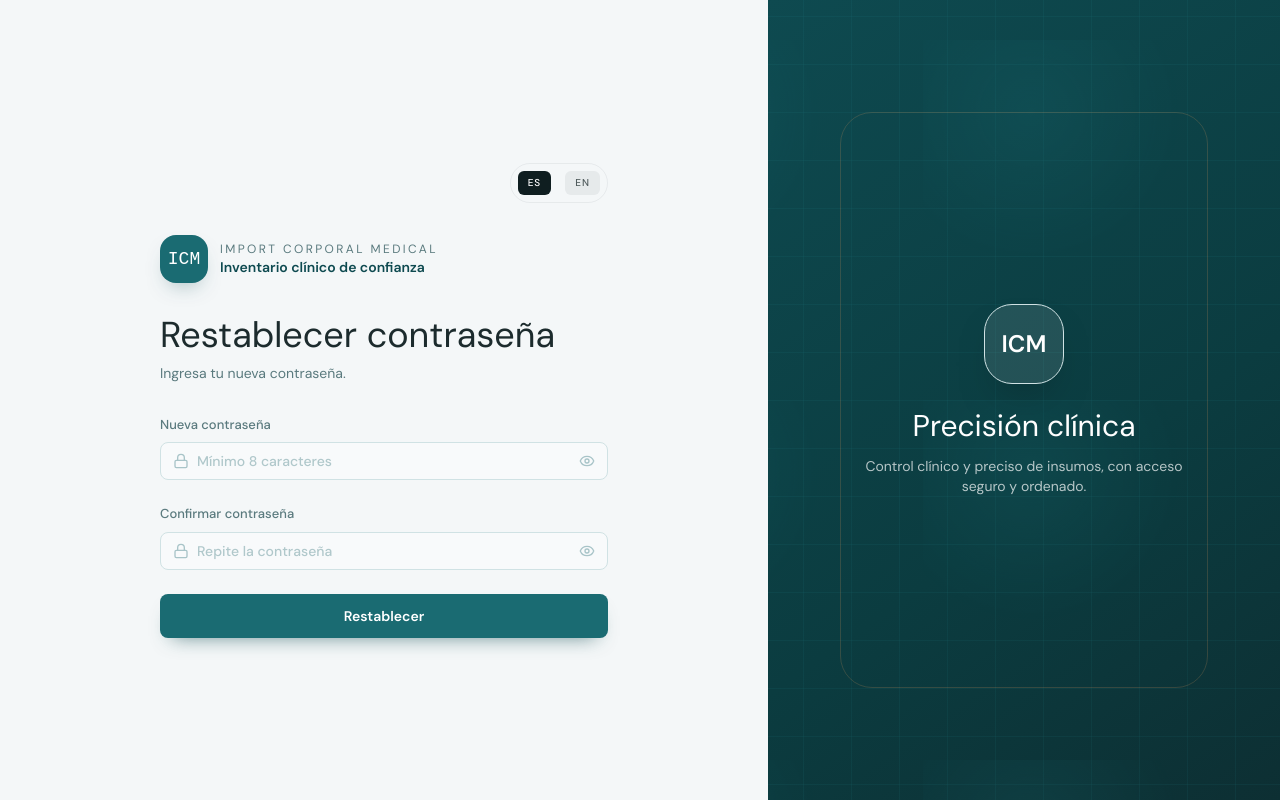
Test case: ResetPasswordPage — integración › Validaciones client-side › debería mostrar error si la contraseña no tiene minúscula
This screenshot has width=1280, height=800.
Type "ADMIN123!" into the password field labelled "Nueva contraseña" at (384, 461), box [197, 451, 571, 471]
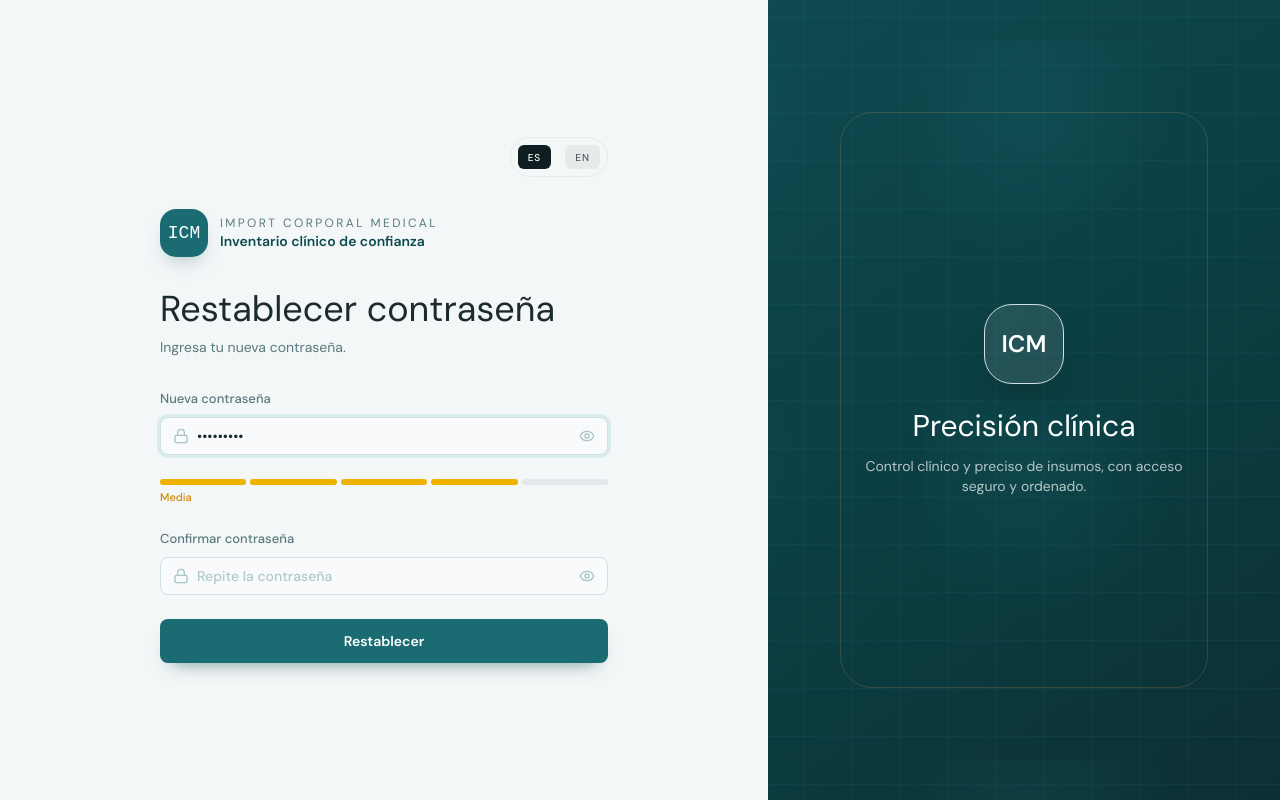
Type "ADMIN123!" into the password field labelled "Confirmar contraseña" at (384, 576), box [197, 566, 571, 586]
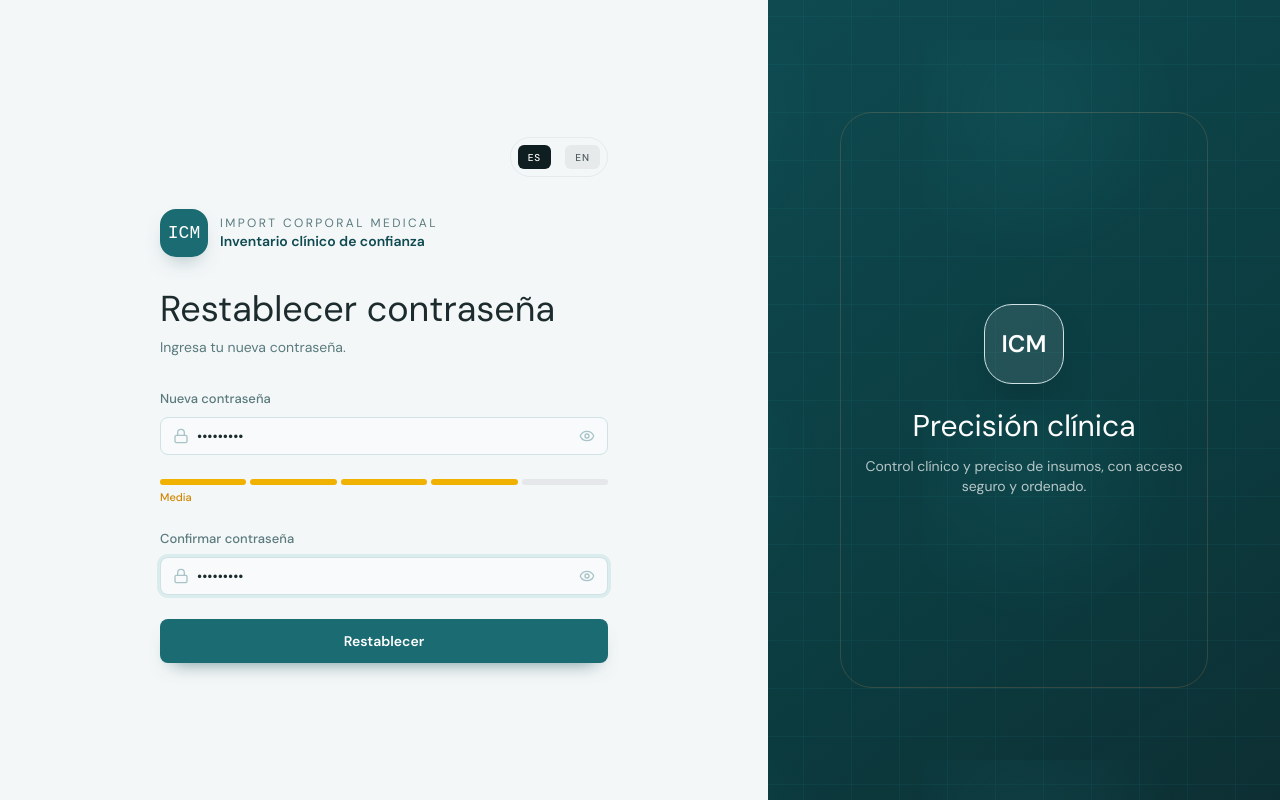
Click the button "Restablecer" at (384, 641), box [160, 619, 608, 663]
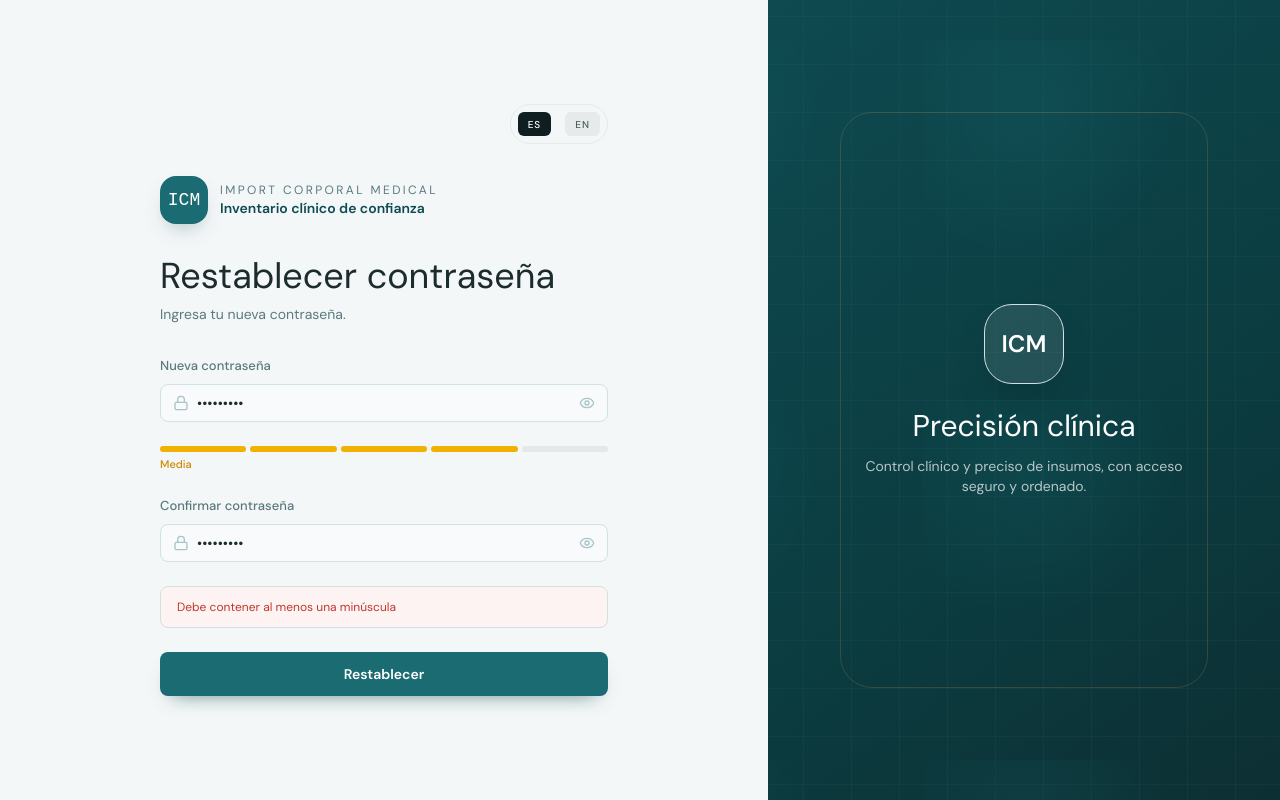
Now the text "Debe contener al menos una minúscula" is shown, box [160, 586, 608, 628]
